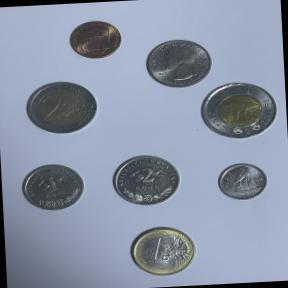coin: (20, 75, 102, 138), (198, 80, 280, 142), (125, 220, 200, 280), (109, 150, 184, 210), (142, 36, 215, 90), (212, 159, 272, 204), (66, 18, 125, 62)
